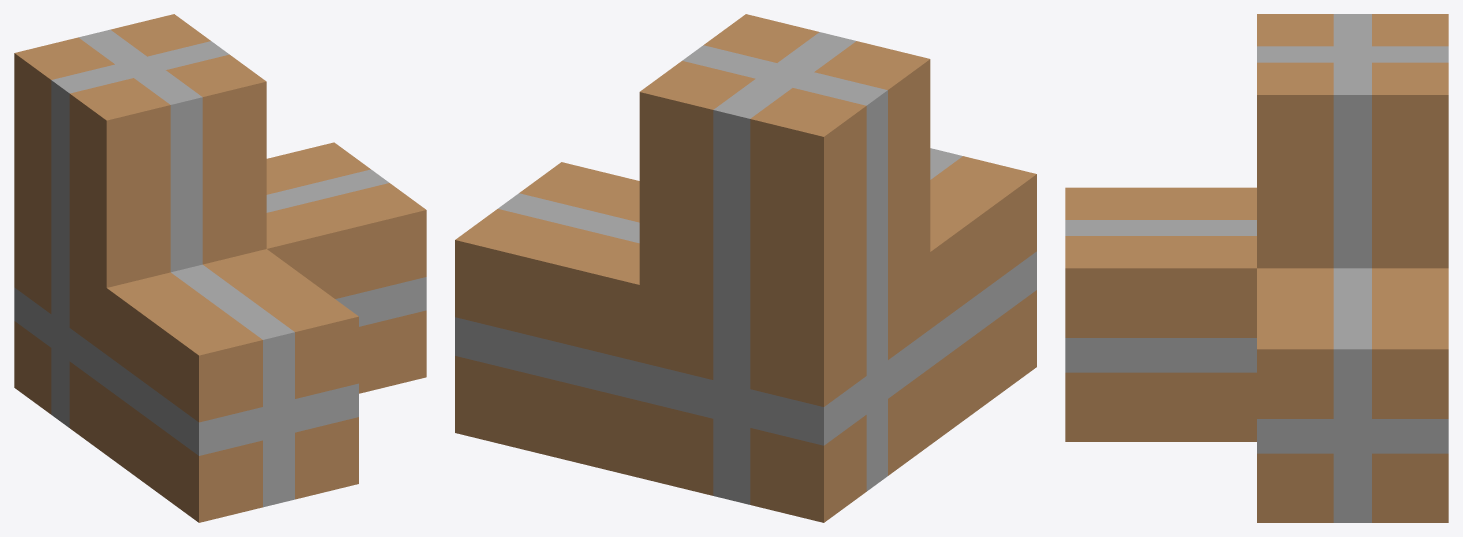
The model's file is Axis box.glb.
The picture shows the model from 3 angles, left to right: view 1: azimuth 30°, elevation 25°; view 2: azimuth 150°, elevation 25°; view 3: azimuth 270°, elevation 25°; orthographic projection. The views are drawn at different scales.
Parts seen in each view (by area): view 1: Axis Box; view 2: Axis Box; view 3: Axis Box.
Boxes of the visible parts, x1,y1,x2,y2 form: Axis Box: (14,14,426,522); Axis Box: (455,14,1036,522); Axis Box: (1065,14,1448,522).
Size of the model in its own units: 2 by 2 by 2.
